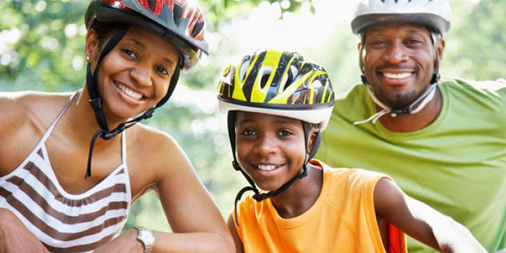helmet: (218, 48, 335, 191), (84, 1, 209, 118), (352, 1, 451, 108)
